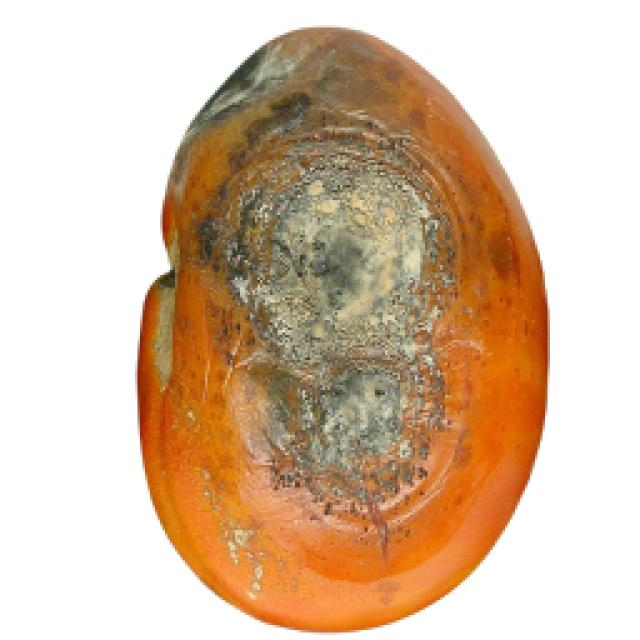Rotten: (134, 19, 548, 632)
